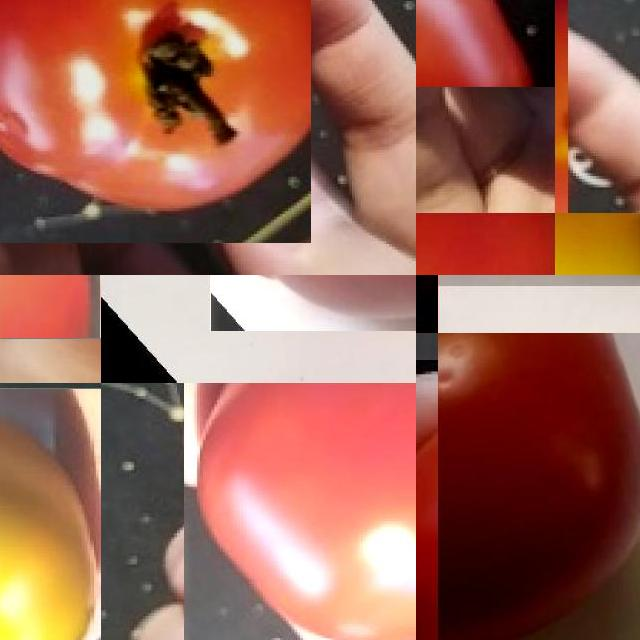Fresh Tomato: (0, 0, 311, 243), (438, 333, 640, 640), (184, 383, 416, 640), (416, 0, 555, 87), (0, 275, 101, 338)
Rotten Tomato: (0, 388, 101, 640), (555, 213, 640, 275)
